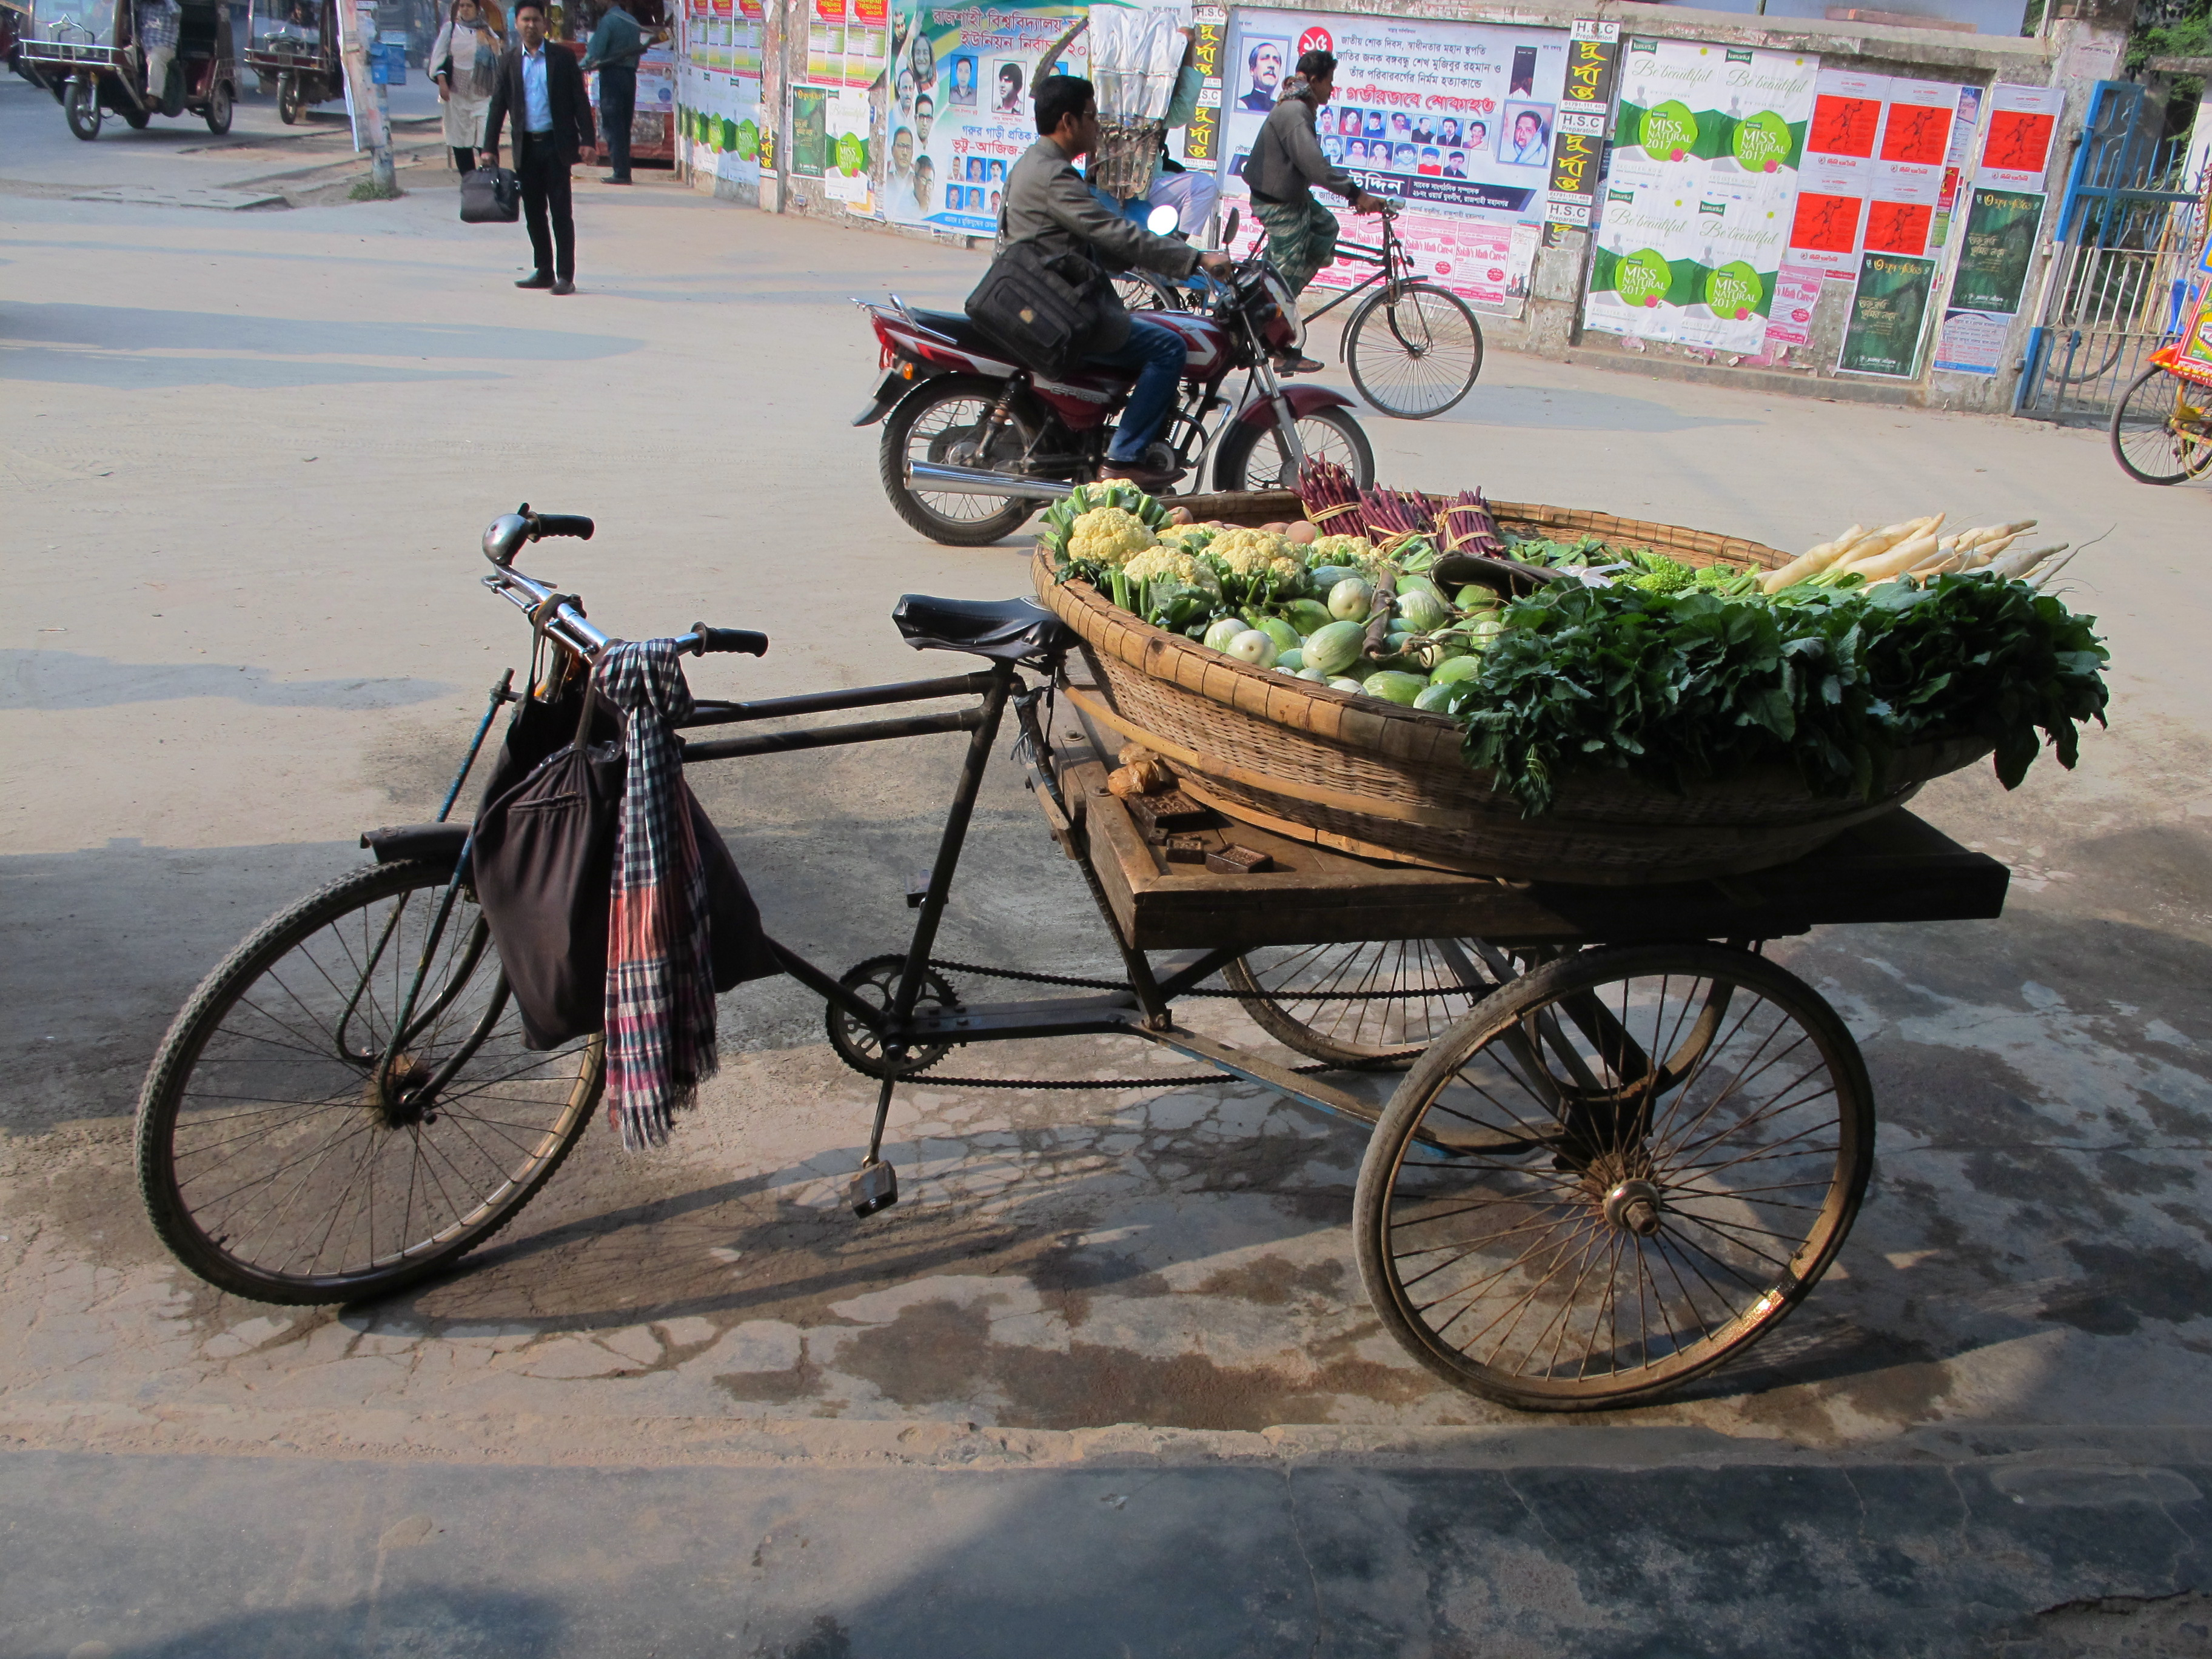handle bar: (453, 479, 791, 699)
seat: (850, 565, 1094, 690)
wheel: (1317, 924, 1998, 1438), (118, 810, 601, 1323), (1219, 890, 1575, 1080)
